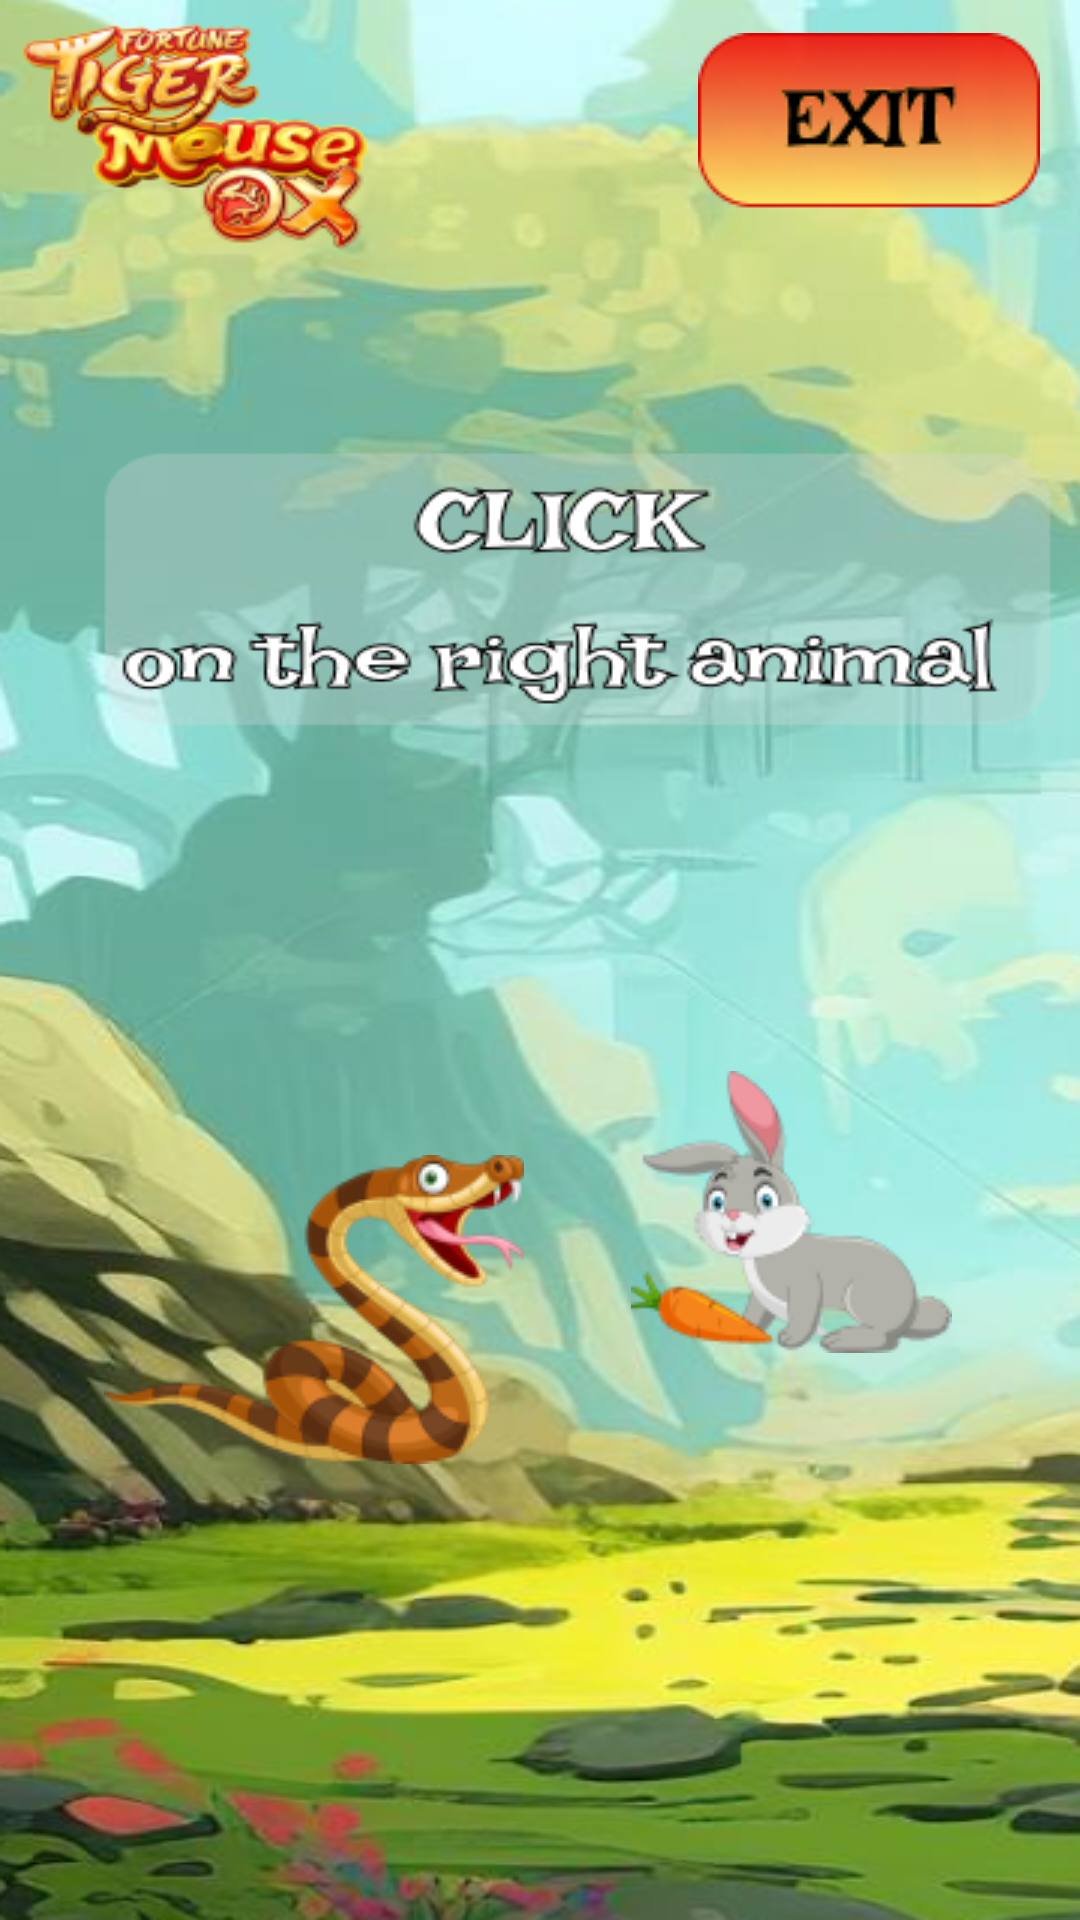

Named icons in this screenshot (1080px×1920px) and their centers, point (x, y):
rabbit: point (791, 1212)
